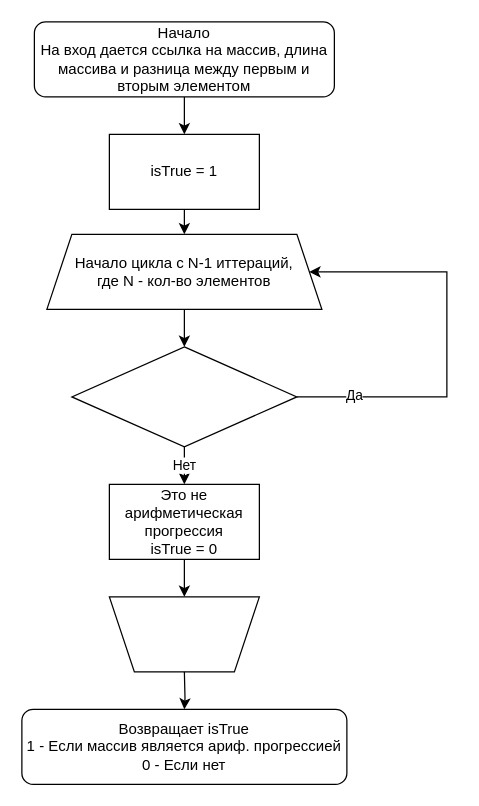
This 479x806 diagram has some shape labels left out. Each missing label, with the centre of its shape:
"Конец цикла" goes at pixel 183 634.
"Разница между соседними элементами равна diff?" goes at pixel 184 396.
